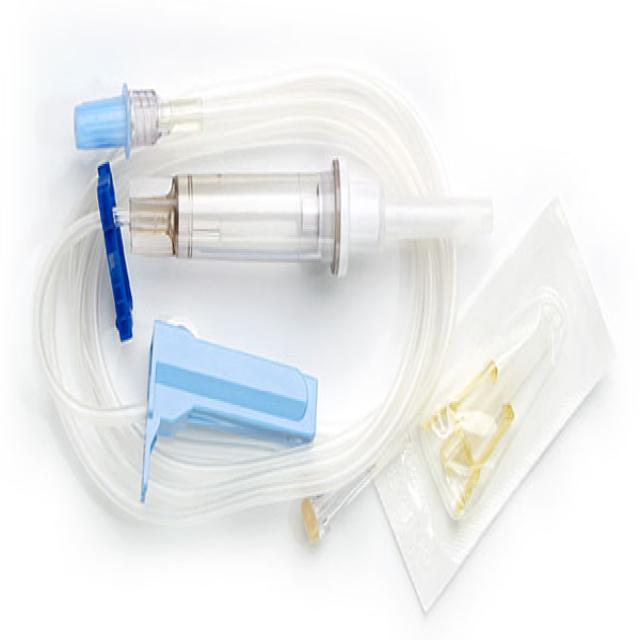B3: (32, 65, 470, 538)
